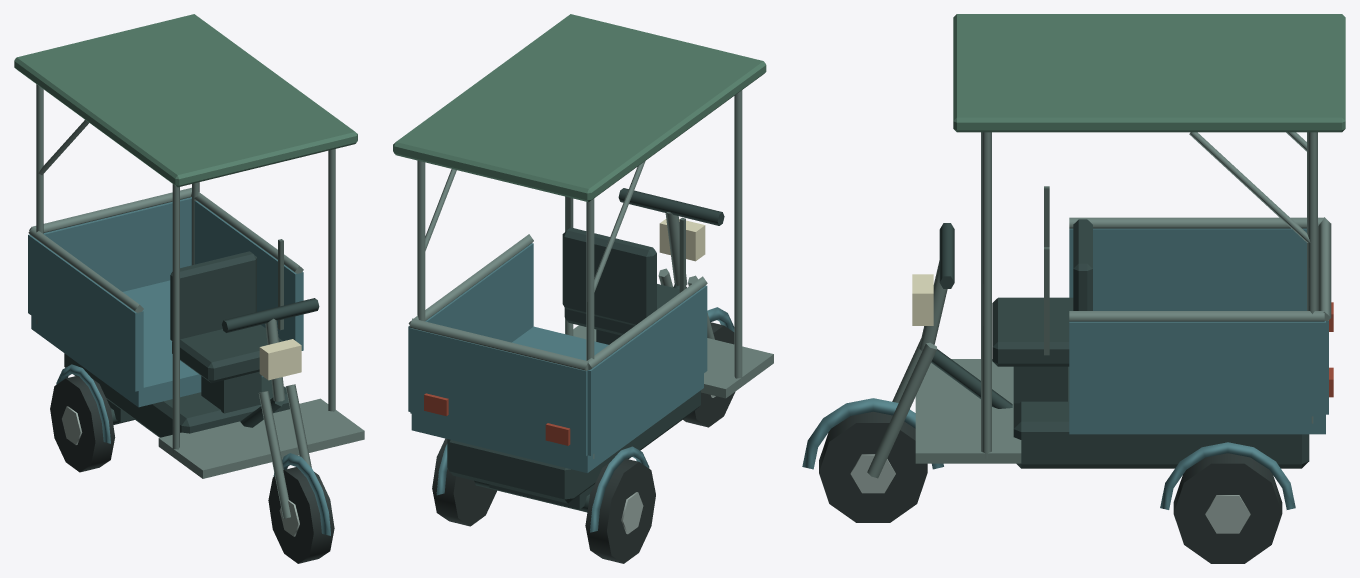
The picture shows the model from 3 angles, left to right: view 1: azimuth 30°, elevation 25°; view 2: azimuth 150°, elevation 25°; view 3: azimuth 270°, elevation 25°; orthographic projection. The views are drawn at different scales.
Visible parts, largest first — view 1: roof_panel, cargo_bed_side_wall, tailgate, driver_footboard, cargo_bed_floor, seat_back, cargo_bed_side_wall_1, tire_1, connected_chassis_and_motor, driver_seat, tire, continuous_roof_post_1 (+15 smaller); view 2: roof_panel, tailgate, cargo_bed_side_wall, seat_back, cargo_bed_floor, connected_chassis_and_motor, cargo_bed_side_wall_1, tire_1, driver_footboard, continuous_roof_post_1, tire_2, tailgate_rim (+16 smaller); view 3: roof_panel, cargo_bed_side_wall_1, cargo_bed_side_wall, connected_chassis_and_motor, tire_2, driver_footboard, tire, driver_seat, cargo_bed_floor, continuous_roof_post_3, bed_top_rim_1, bed_top_rim (+14 smaller).
Part boxes in pixels (x1,y1,x2,y2): roof_panel: (14, 14, 357, 187); cargo_bed_side_wall: (28, 234, 143, 391); tailgate: (43, 197, 191, 291); driver_footboard: (158, 398, 364, 478); cargo_bed_floor: (31, 280, 263, 407); seat_back: (170, 251, 256, 340); cargo_bed_side_wall_1: (190, 197, 303, 350); tire_1: (50, 375, 115, 472); connected_chassis_and_motor: (64, 353, 289, 437); driver_seat: (172, 325, 282, 383); tire: (268, 467, 334, 563); continuous_roof_post_1: (172, 184, 179, 453); roof_panel: (393, 14, 766, 202); tailgate: (410, 328, 587, 455); cargo_bed_side_wall: (587, 285, 707, 455); seat_back: (562, 227, 656, 325); cargo_bed_floor: (411, 326, 703, 473); connected_chassis_and_motor: (447, 390, 700, 503); cargo_bed_side_wall_1: (408, 243, 533, 411); tire_1: (585, 459, 655, 563); driver_footboard: (573, 325, 773, 398); continuous_roof_post_1: (734, 90, 742, 382); tire_2: (432, 438, 496, 526); tailgate_rim: (409, 318, 588, 370); roof_panel: (953, 14, 1345, 132); cargo_bed_side_wall_1: (1069, 321, 1325, 416); cargo_bed_side_wall: (1069, 228, 1306, 310); connected_chassis_and_motor: (1013, 366, 1309, 468); tire_2: (1173, 453, 1282, 563); driver_footboard: (915, 359, 1021, 463); tire: (819, 411, 927, 522); driver_seat: (992, 297, 1073, 366); cargo_bed_floor: (1069, 416, 1325, 434); continuous_roof_post_3: (981, 132, 991, 458); bed_top_rim_1: (1069, 311, 1324, 321); bed_top_rim: (1069, 217, 1323, 228).
Bounding box in the file's own units: 0.836 × 1.65 × 1.8.
